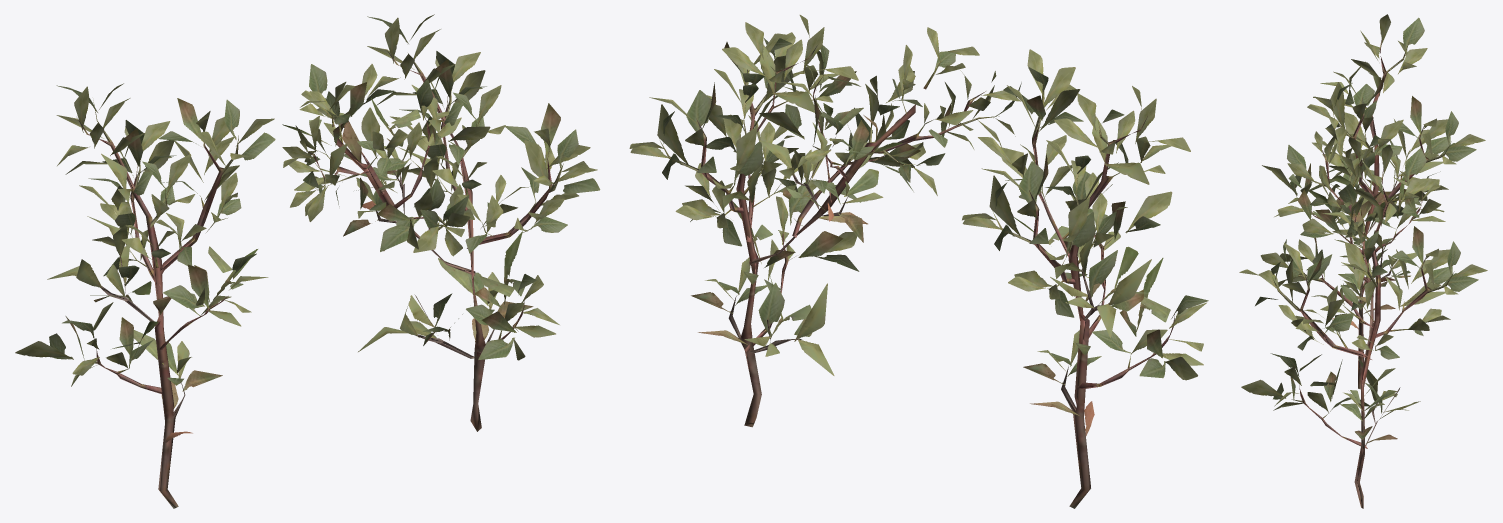
3 views of the same model, side by side, from view 1: azimuth 30°, elevation 25°; view 2: azimuth 150°, elevation 25°; view 3: azimuth 270°, elevation 25° (orthographic). The views are drawn at different scales.
Parts seen in each view (by area): view 1: shrub_04__b_lod1; view 2: shrub_04__b_lod1; view 3: shrub_04__b_lod1.
Boxes of the visible parts, left/top/right/bottom form: shrub_04__b_lod1: left=15, top=14, right=600, bottom=508; shrub_04__b_lod1: left=629, top=15, right=1208, bottom=508; shrub_04__b_lod1: left=1239, top=14, right=1487, bottom=508.
Bounding box in the file's own units: 0.2921 × 0.2266 × 0.1476.
1 material, 1 textured.
